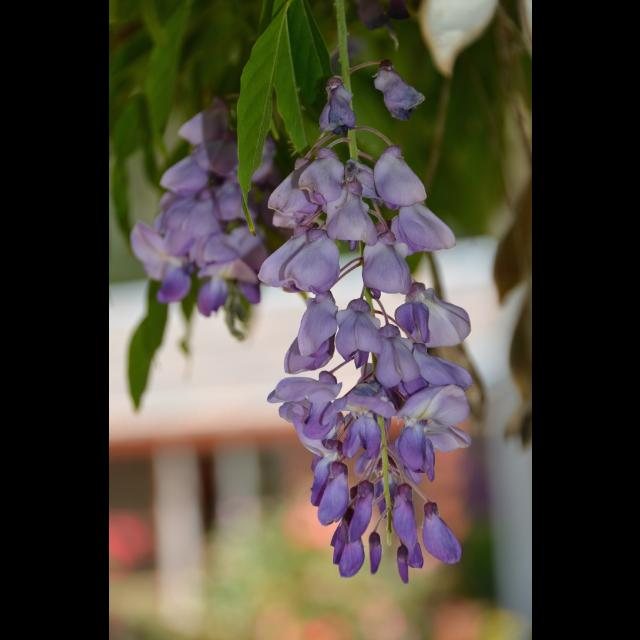Flower: (127, 56, 473, 580), (322, 69, 362, 125)
